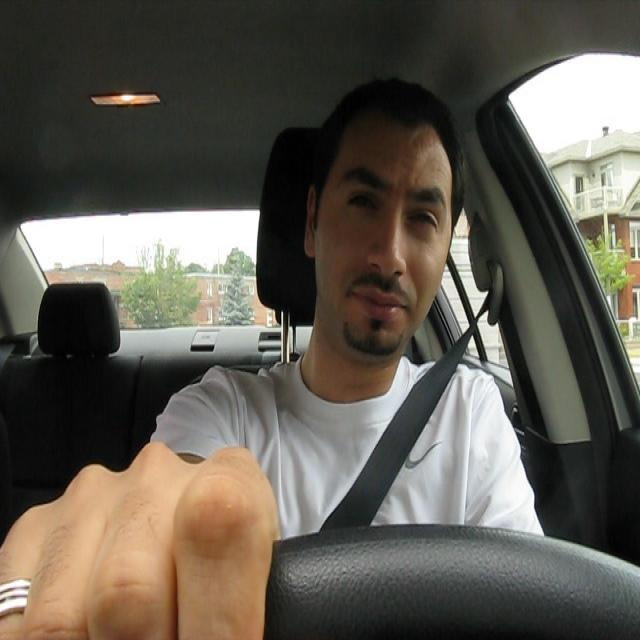Eyeclosed: (409, 204, 438, 241)
Eyeopen: (347, 186, 379, 224)
